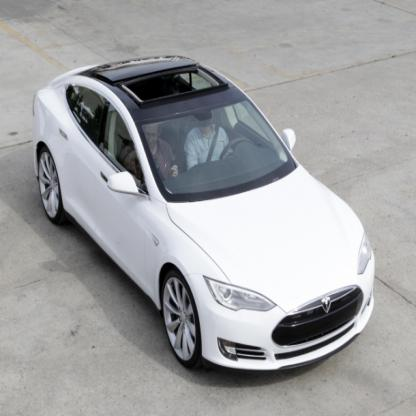Vehicle: (32, 53, 376, 375)
